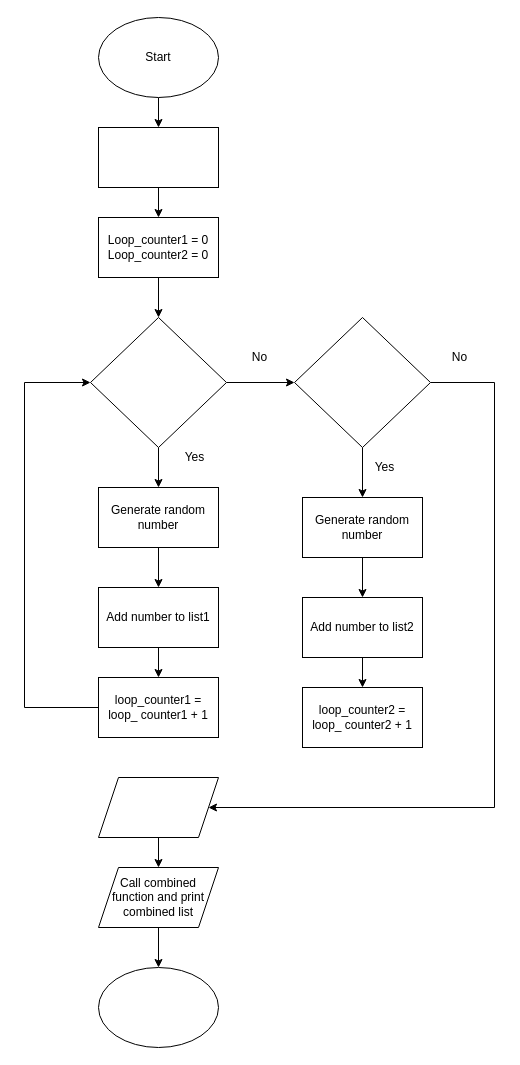
The diagram is 520 pixels wide and 1065 high, and some of its shapes have lost their labels. The shapes that lost their labels are listed below. From the top down, each one's centre as x and y in pixels, then its label:
(158,157): List1 = [] List2 = []
(158,382): while loop_counter1 < 3
(362,382): while loop_counter2 < 3
(158,807): Print list1 and list2
